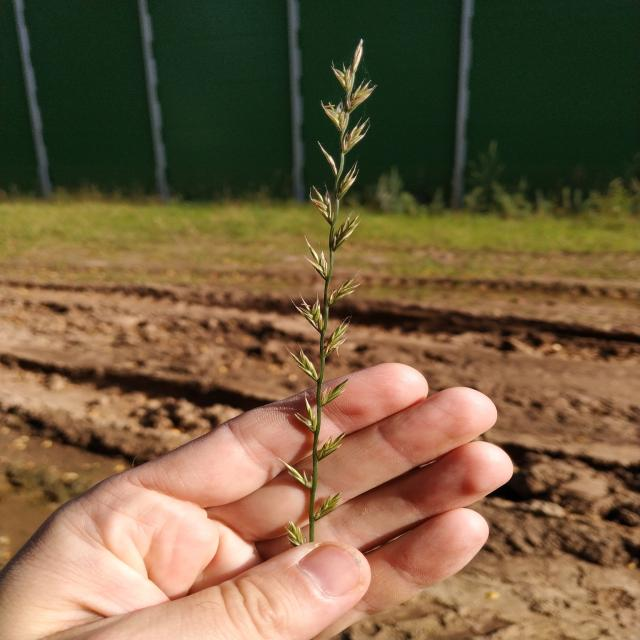Lolium: (278, 37, 380, 548)
